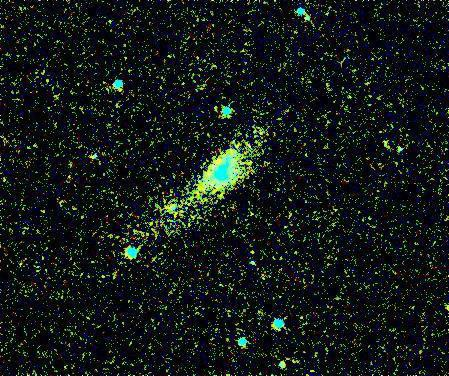star: (239, 237, 269, 267)
